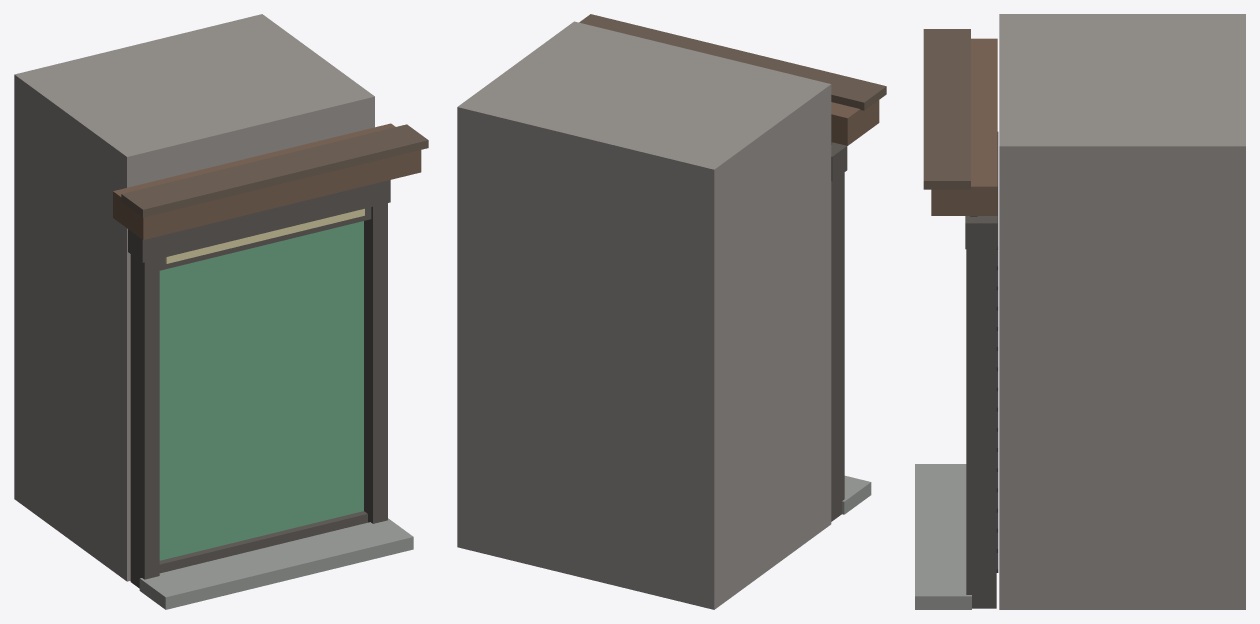
The model's file is prop_shutter_shop_midori.glb.
3 renders of one model, left to right at view 1: azimuth 30°, elevation 25°; view 2: azimuth 150°, elevation 25°; view 3: azimuth 270°, elevation 25°, orthographic. The views are drawn at different scales.
Parts seen in each view (by area): view 1: shutter_shop_midori; view 2: shutter_shop_midori; view 3: shutter_shop_midori.
Boxes of the visible parts, x1,y1,x2,y2 form: shutter_shop_midori: [14, 14, 428, 609]; shutter_shop_midori: [457, 14, 886, 609]; shutter_shop_midori: [915, 14, 1245, 609].
Size of the model in its own units: 3.8 by 5.4 by 3.49.
